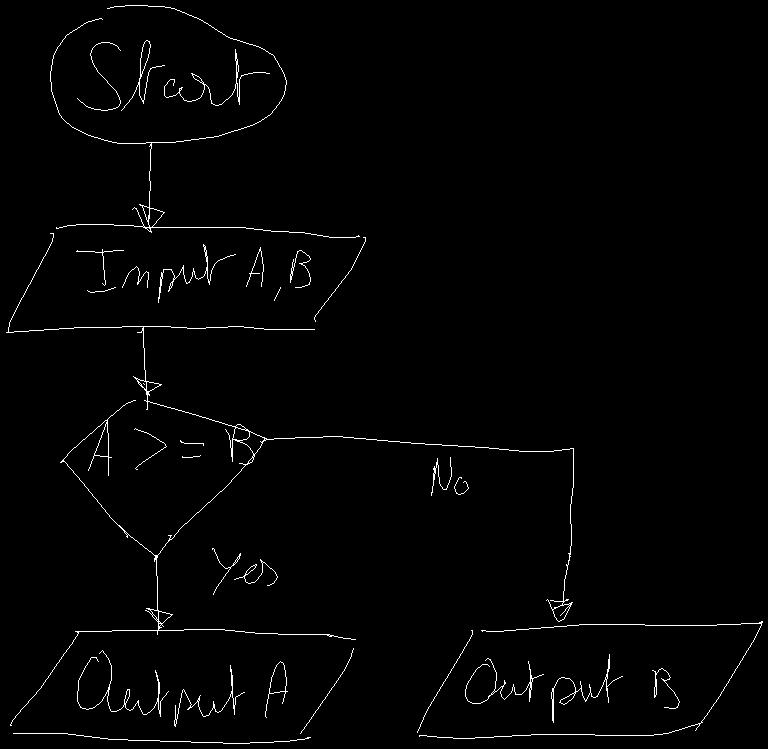arrow: (260, 436, 573, 621), (132, 142, 164, 232), (133, 326, 161, 409), (145, 556, 172, 634)
data: (417, 621, 762, 738), (10, 629, 355, 743), (6, 224, 365, 332)
decision: (60, 400, 266, 561)
terminator: (50, 5, 286, 143)
text: (77, 650, 287, 726), (465, 654, 679, 722), (76, 244, 310, 302), (77, 40, 269, 110), (88, 420, 254, 475), (212, 548, 277, 594), (431, 457, 468, 495)
